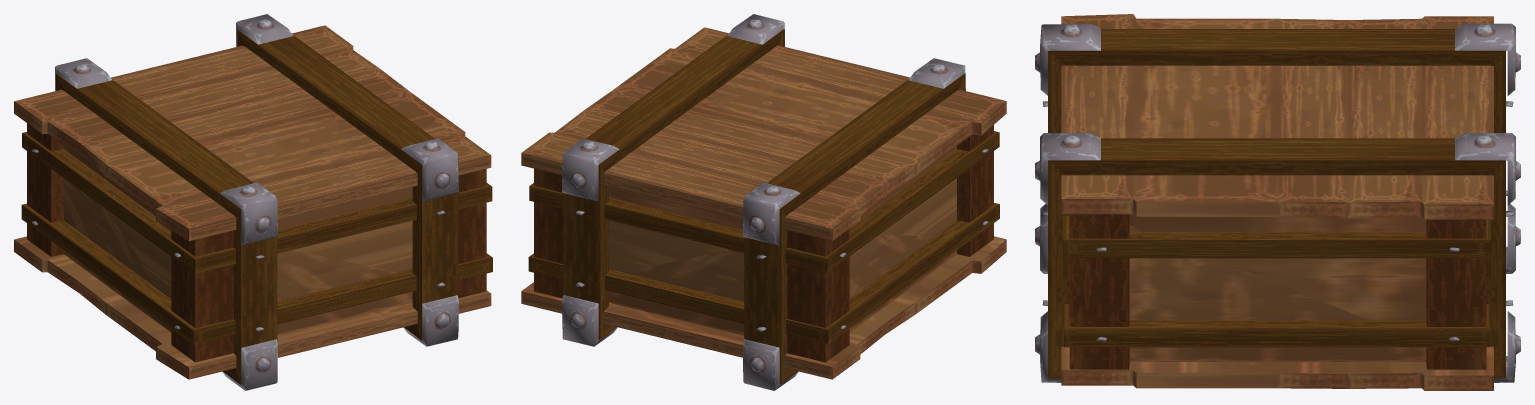
Rendered from crate-low.lod1.gltf.
The picture shows the model from 3 angles, left to right: view 1: azimuth 30°, elevation 25°; view 2: azimuth 150°, elevation 25°; view 3: azimuth 270°, elevation 25°; orthographic projection. The views are drawn at different scales.
Visible parts, largest first — view 1: Crate_Wooden; view 2: Crate_Wooden; view 3: Crate_Wooden.
Part boxes in pixels (x1,y1,x2,y2): Crate_Wooden: (14, 14, 492, 390); Crate_Wooden: (521, 14, 1006, 390); Crate_Wooden: (1035, 14, 1520, 390).
Bounding box in the file's own units: 0.8423 × 0.5004 × 0.9087.
2 materials, 2 textured.
